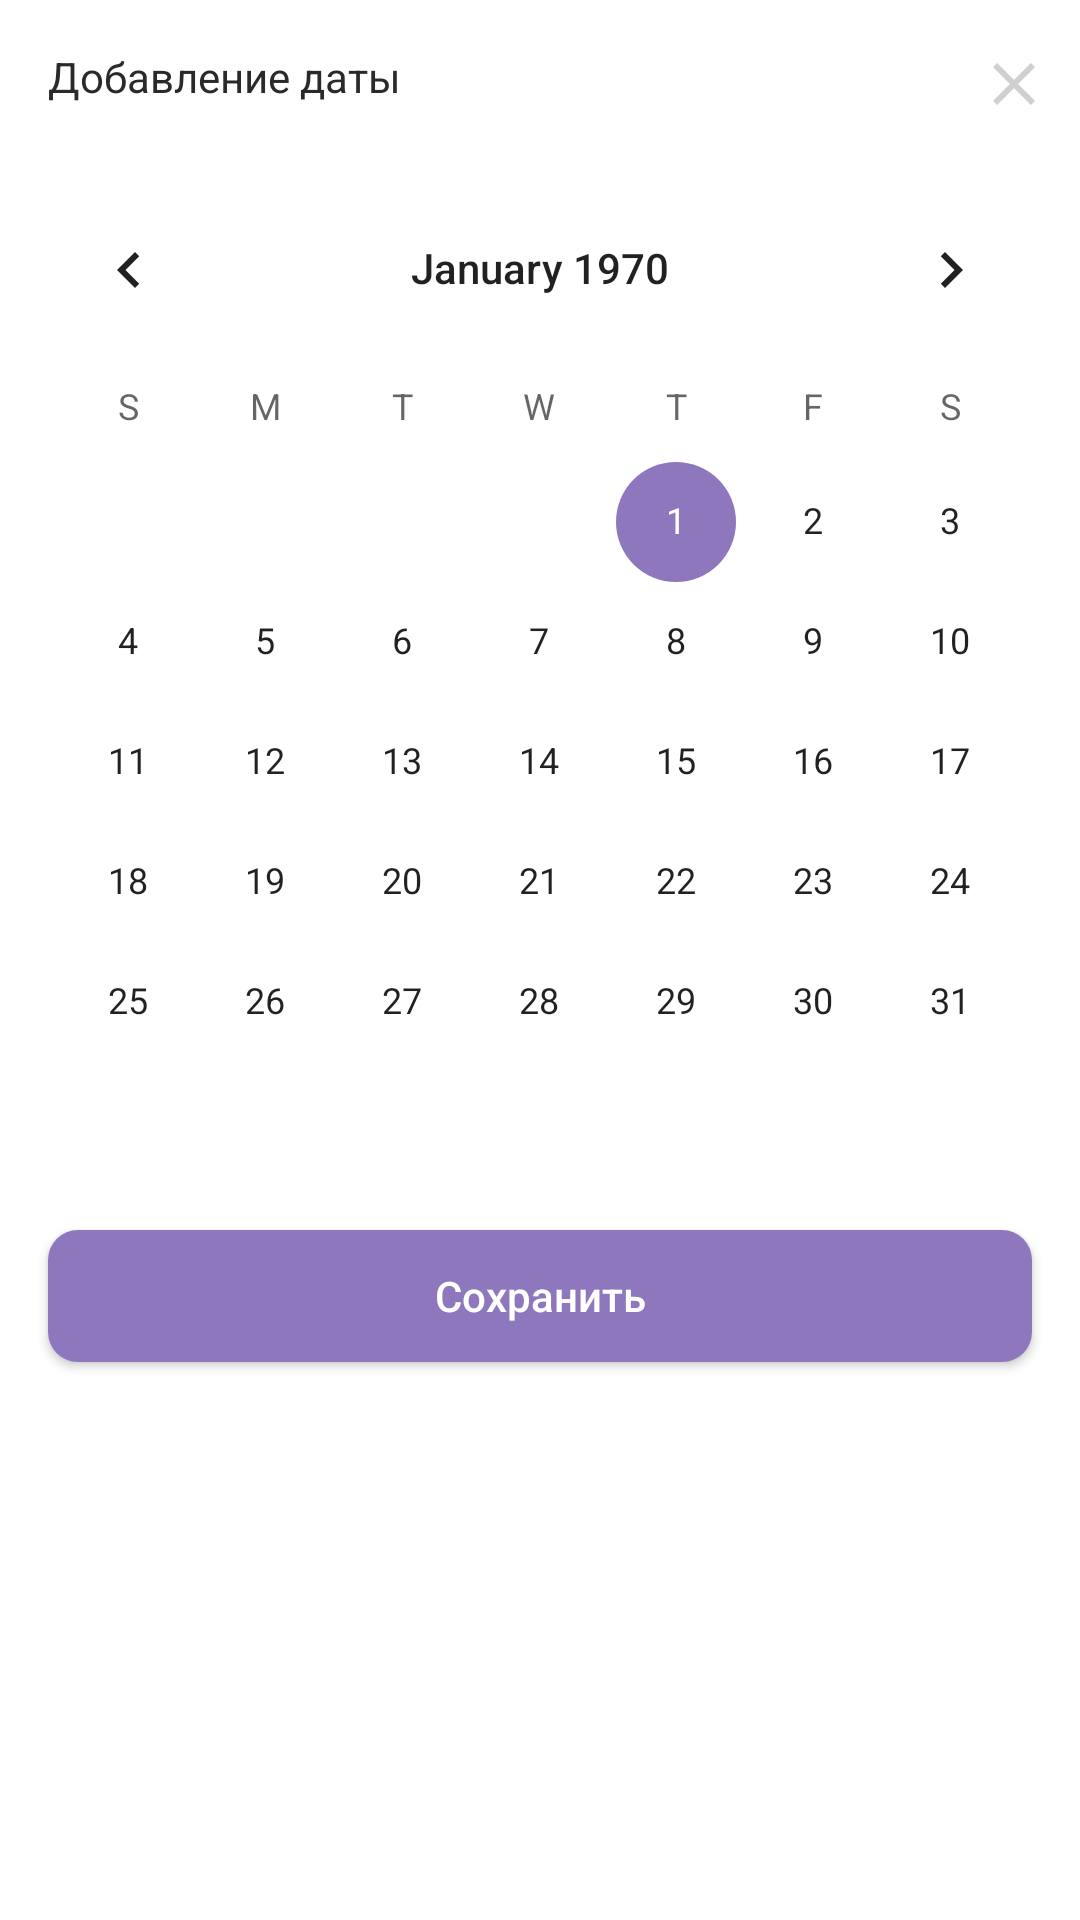

Point at icon controls on the screen. Image size 1080×1920, points as (x=x, y=y).
close: (x=1014, y=84)
